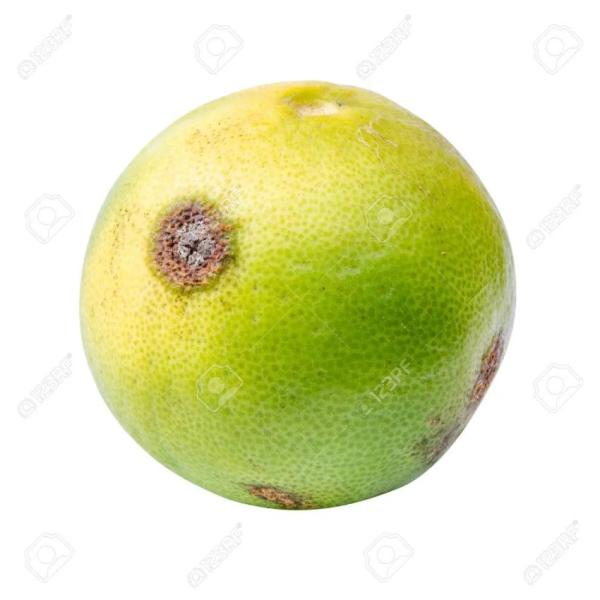Trips: (55, 57, 537, 525)
